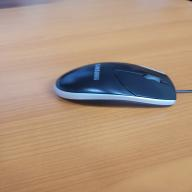mouse: (43, 42, 184, 118)
